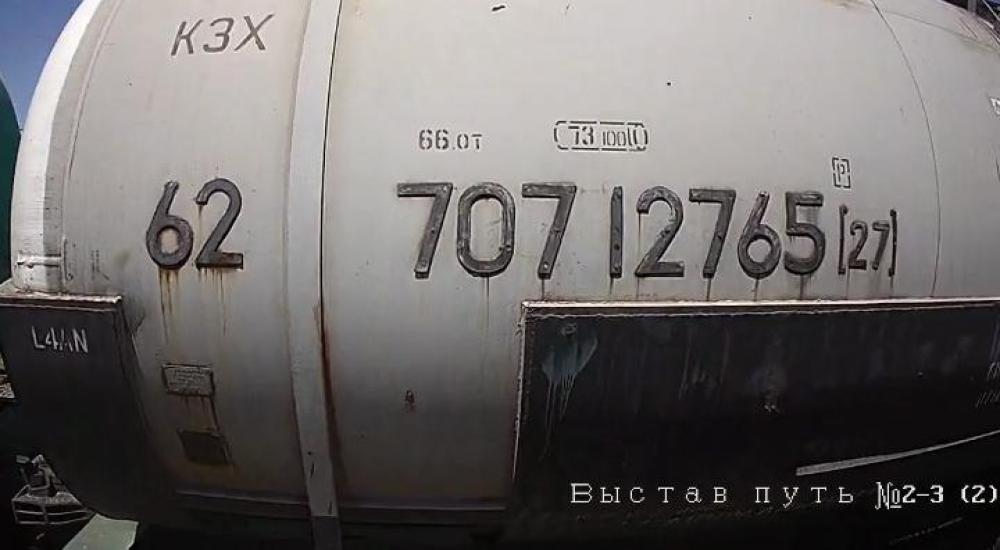Wagon-number: (391, 174, 831, 286)
